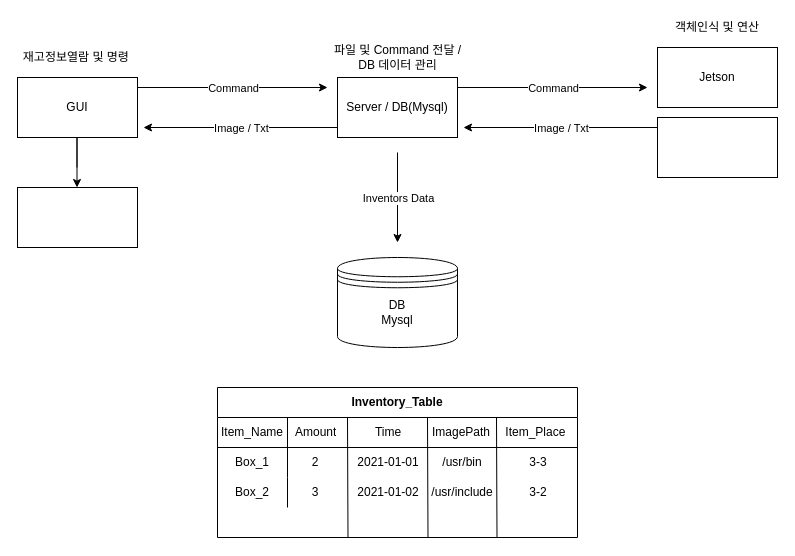
Image size: 795x556. Some labels were removed from this diagram. Each missing label, with the box of its shape:
Raspberry: (656, 116, 778, 178)
실행 / 화면보기 / QR변경 / 물품 정보: (16, 186, 138, 248)
